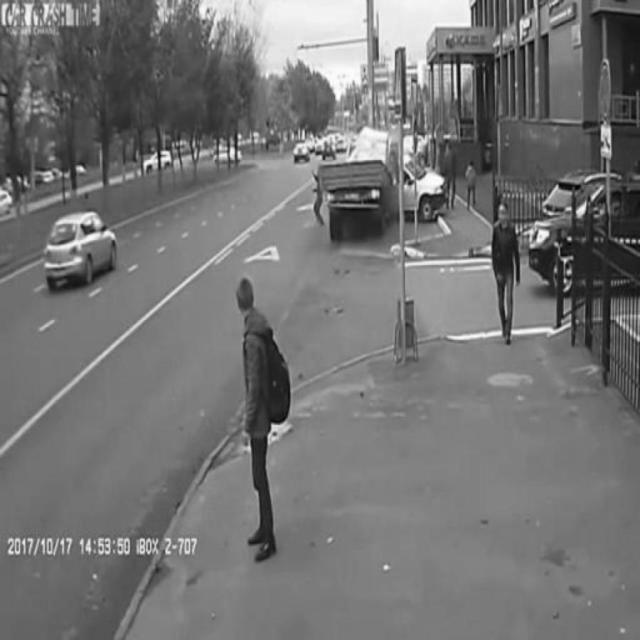accident: (320, 131, 450, 244)
person: (232, 271, 290, 562), (488, 203, 522, 347), (464, 161, 482, 209)
vehicle: (530, 177, 640, 298), (42, 211, 120, 291)
